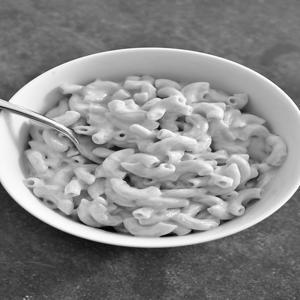pasta: (8, 58, 291, 267)
